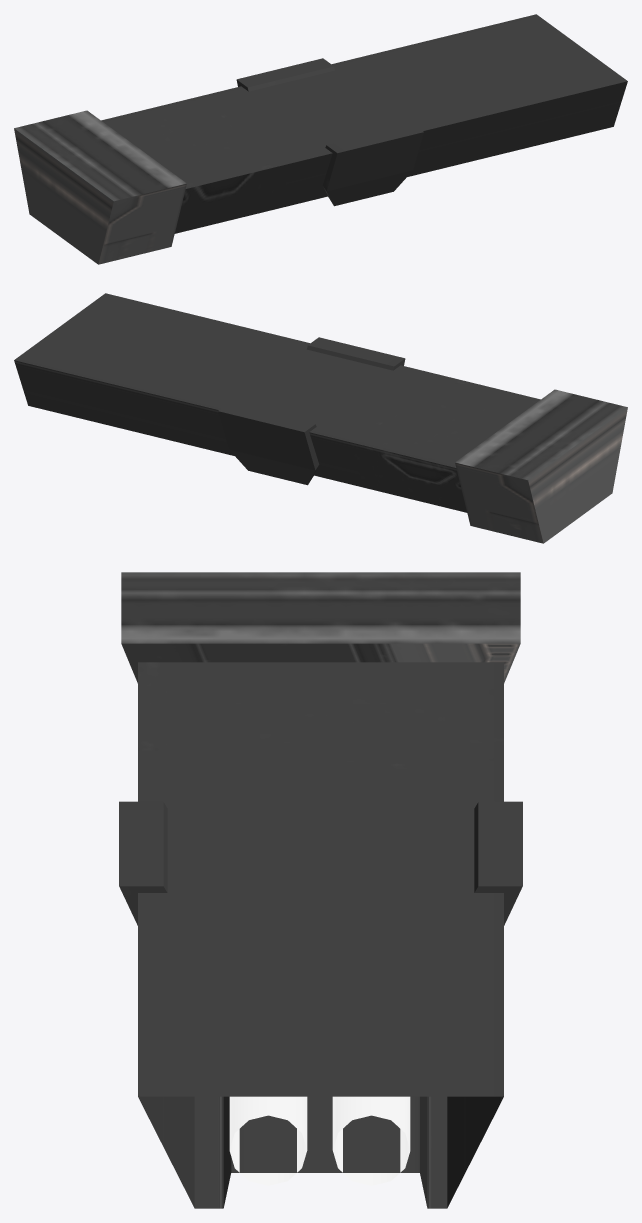
File: Prop_Light_Wide.gltf
The picture shows the model from 3 angles, top to bottom: view 1: azimuth 30°, elevation 25°; view 2: azimuth 150°, elevation 25°; view 3: azimuth 270°, elevation 25°; orthographic projection. The views are drawn at different scales.
Visible parts, largest first — view 1: Prop_Light_Wide; view 2: Prop_Light_Wide; view 3: Prop_Light_Wide.
Part boxes in pixels (bbox=[...]): Prop_Light_Wide: bbox=[14, 14, 627, 264]; Prop_Light_Wide: bbox=[14, 293, 627, 543]; Prop_Light_Wide: bbox=[119, 572, 522, 1208].
Bounding box in the file's own units: 1.32 × 0.1819 × 0.4453.
Materials: 2 (1 with a texture image).
